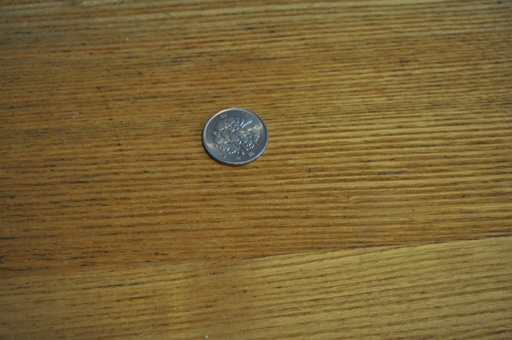100yen: (202, 108, 267, 165)
